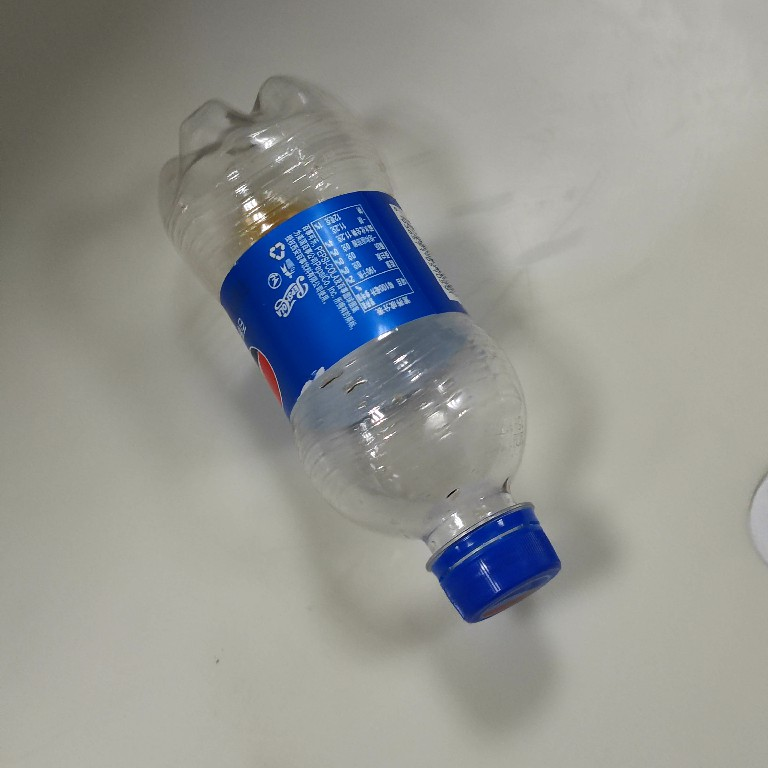bottle: (144, 66, 568, 635)
